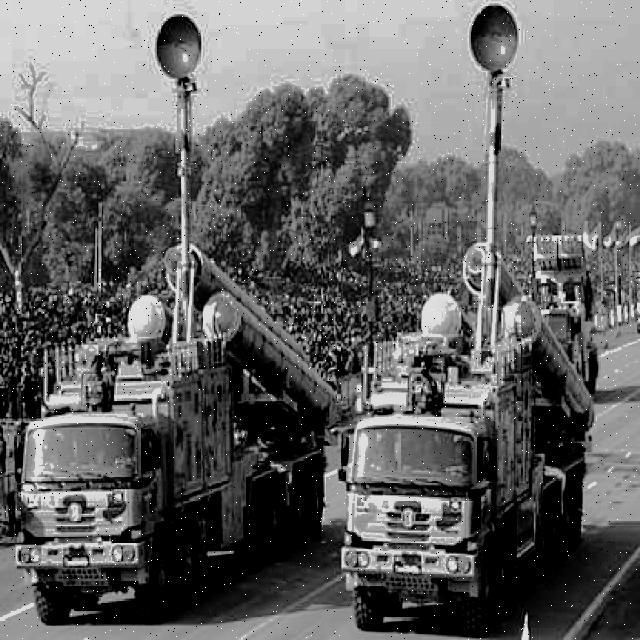HCV: (15, 342, 312, 593), (359, 351, 586, 611)
